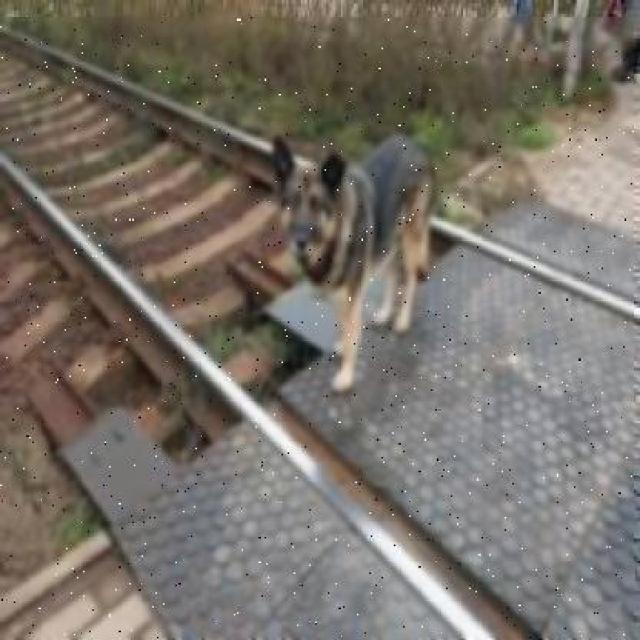danger: (257, 125, 448, 386)
rail: (1, 18, 634, 638)
